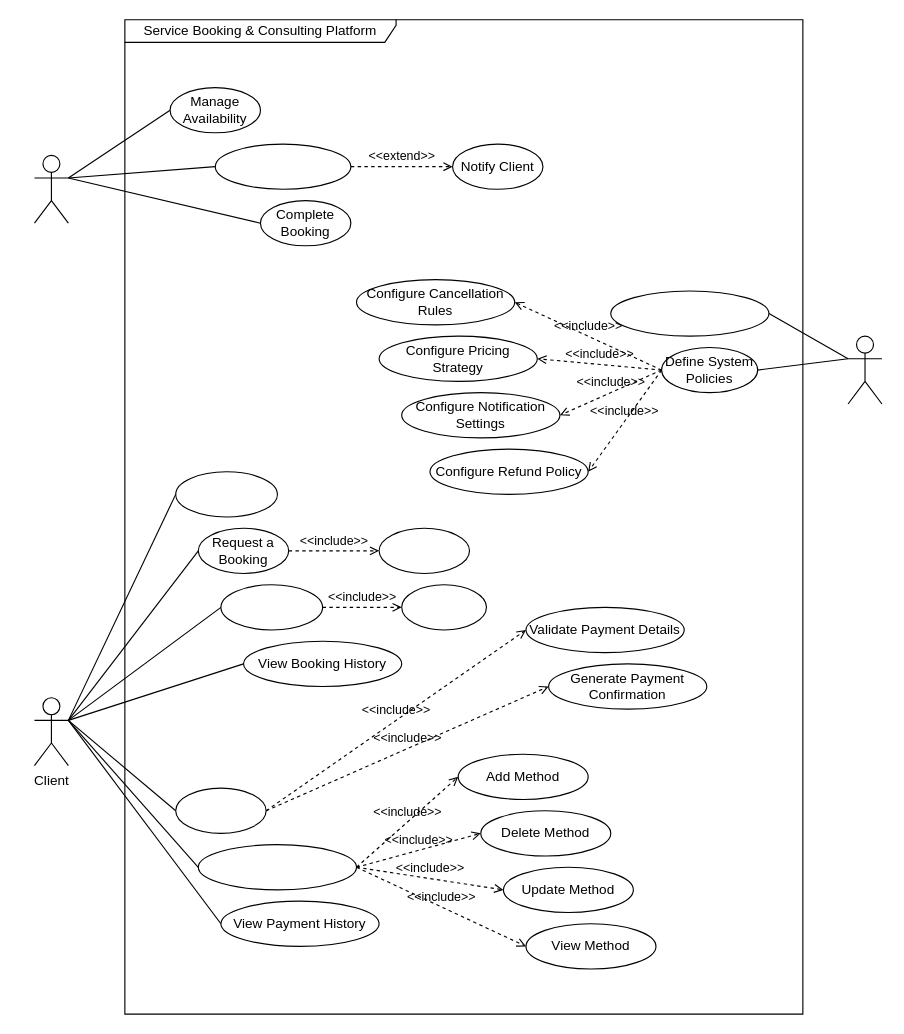
This 904x1034 diagram has some shape labels left out. Here are the shapes that lost their labels. From the top down, the box of each, then its label:
(214, 143, 351, 189): Accept/Reject Booking Request
(33, 154, 68, 223): Consultant
(610, 290, 769, 336): Approve Consultant Registration
(847, 335, 882, 404): Admin
(175, 471, 277, 517): Browse Services
(378, 527, 470, 573): Validate Availability
(220, 584, 323, 630): Cancel a Booking
(401, 584, 486, 630): Cancellation Policy
(175, 787, 266, 833): Process Payment
(197, 844, 357, 890): Manage Payment Methods
